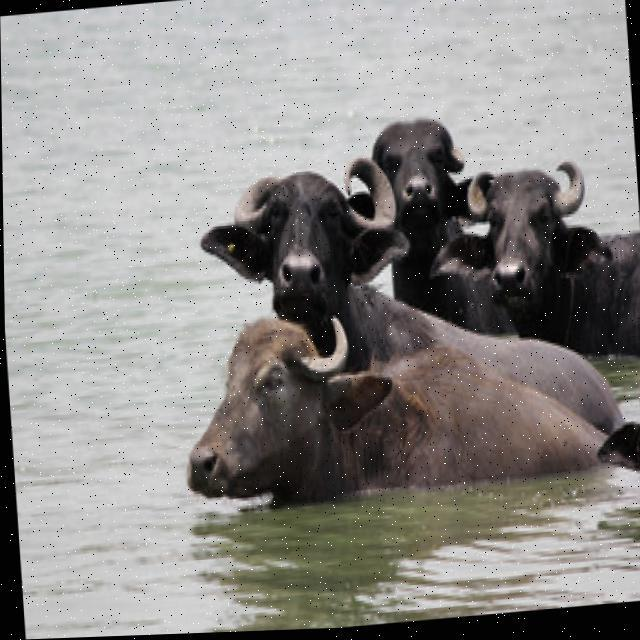Buffalo: (179, 290, 572, 519), (466, 152, 640, 355)
